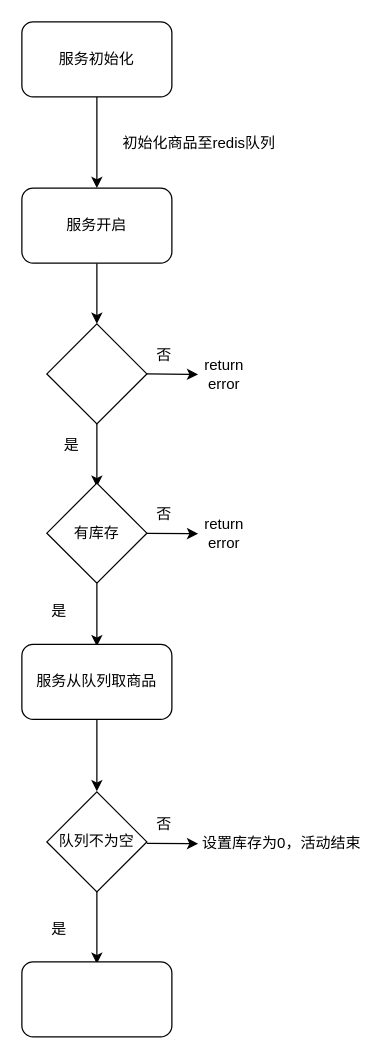
This 386x1059 diagram has some shape labels left out. Each missing label, with the centre of its shape:
在活动时间内: the point at 96,373
服务返回成功: the point at 96,999
